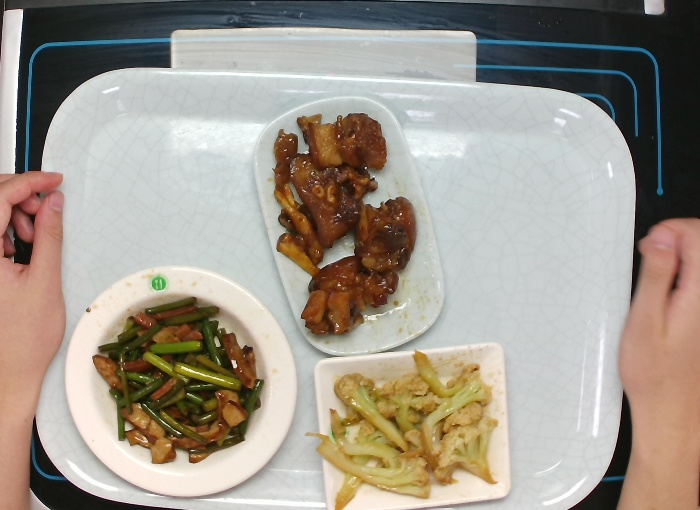WCQzf-Bai_Se_Si_Fang_Die: (309, 338, 518, 510)
WCQzf-Kuan_Bian_Yuan_Die: (59, 263, 300, 500)
WCQzf-Tuo_Yuan_Pan: (250, 96, 448, 357)
